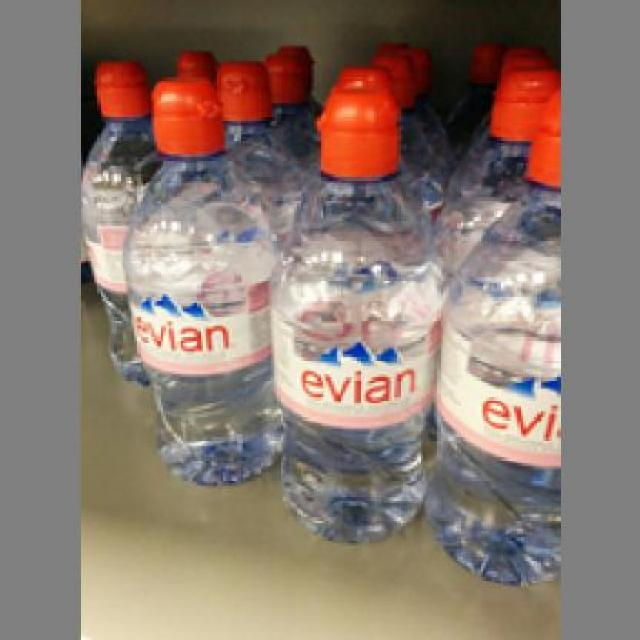Water: (274, 80, 434, 543), (117, 70, 274, 487), (434, 87, 557, 584)
